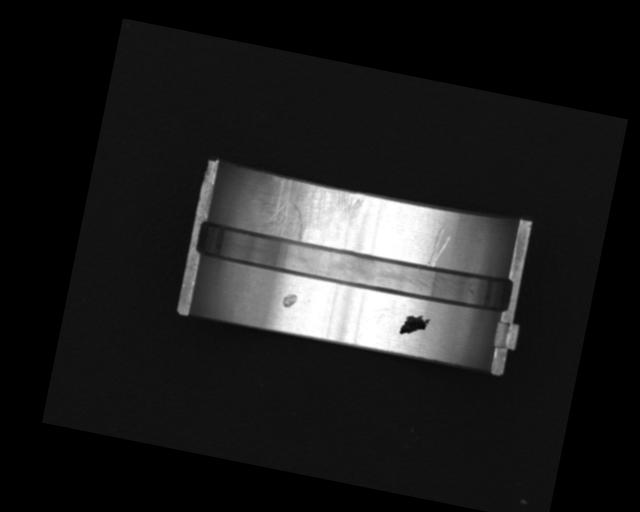blot: (397, 310, 430, 339)
bruise: (280, 291, 298, 310)
gap: (193, 218, 515, 318)
nick: (427, 225, 451, 268)
scratch: (251, 172, 364, 251)
